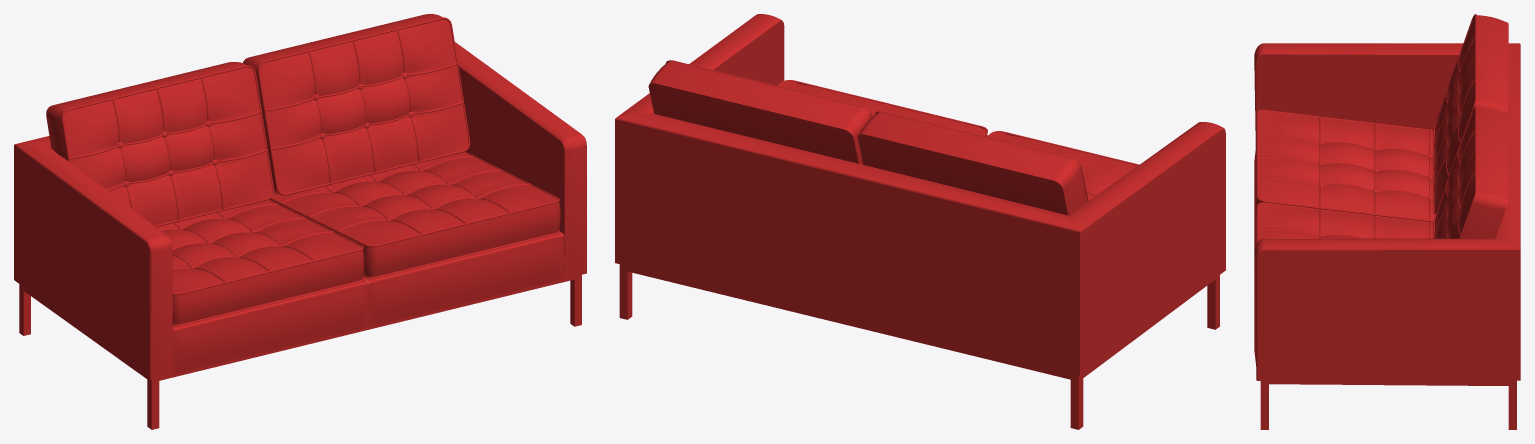
Rendered from knoll_loveseat_a_01.FBX.
3 views of the same model, side by side, from view 1: azimuth 30°, elevation 25°; view 2: azimuth 150°, elevation 25°; view 3: azimuth 270°, elevation 25° (orthographic). The views are drawn at different scales.
Parts seen in each view (by area): view 1: knoll_loveseat_a_01; view 2: knoll_loveseat_a_01; view 3: knoll_loveseat_a_01.
Boxes of the visible parts, x1,y1,x2,y2 form: knoll_loveseat_a_01: (14,14,586,429); knoll_loveseat_a_01: (615,14,1225,429); knoll_loveseat_a_01: (1254,14,1520,429).
Size of the model in its own units: 1.47 by 0.7506 by 0.8046.
